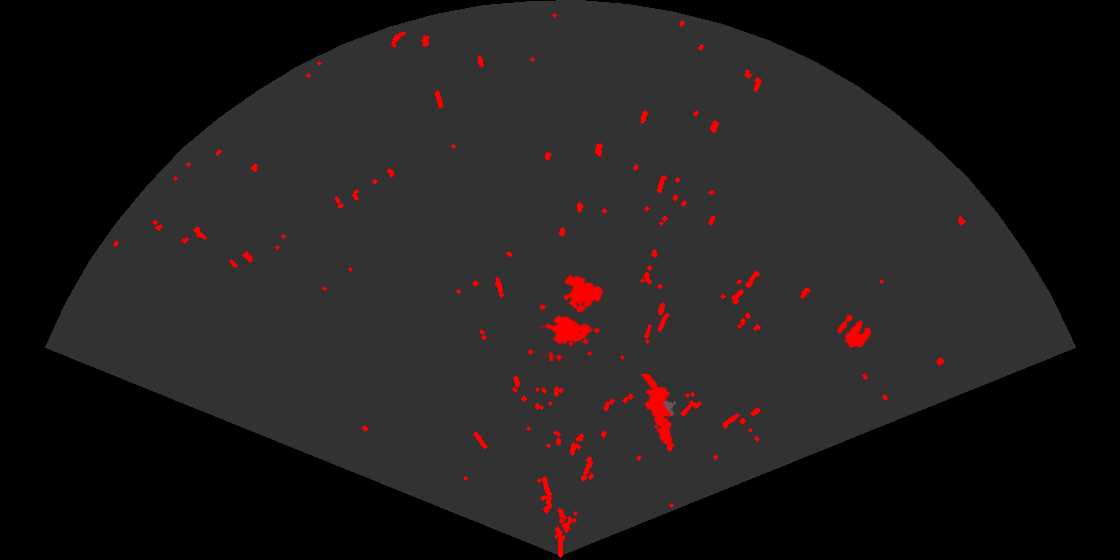ball: (836, 313, 873, 349)
cage: (540, 273, 605, 361)
frogman: (639, 374, 677, 453)
